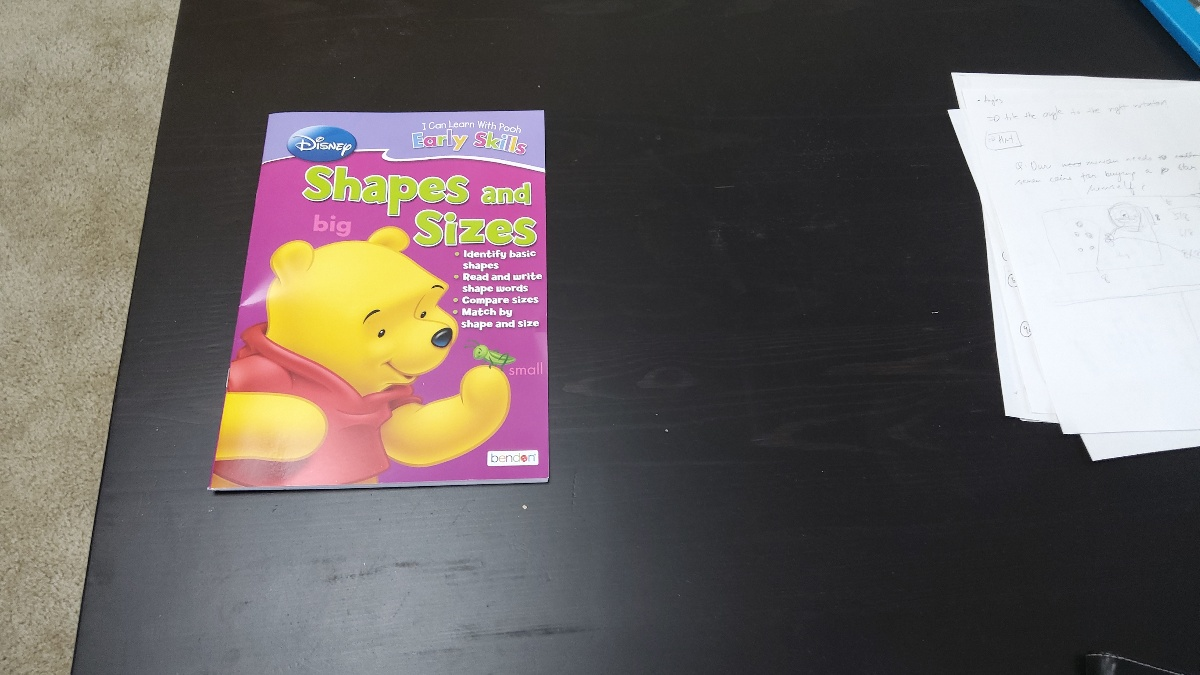book: (211, 108, 553, 486)
